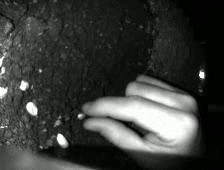corn: (56, 133, 69, 148), (26, 102, 38, 116), (77, 112, 85, 120)
